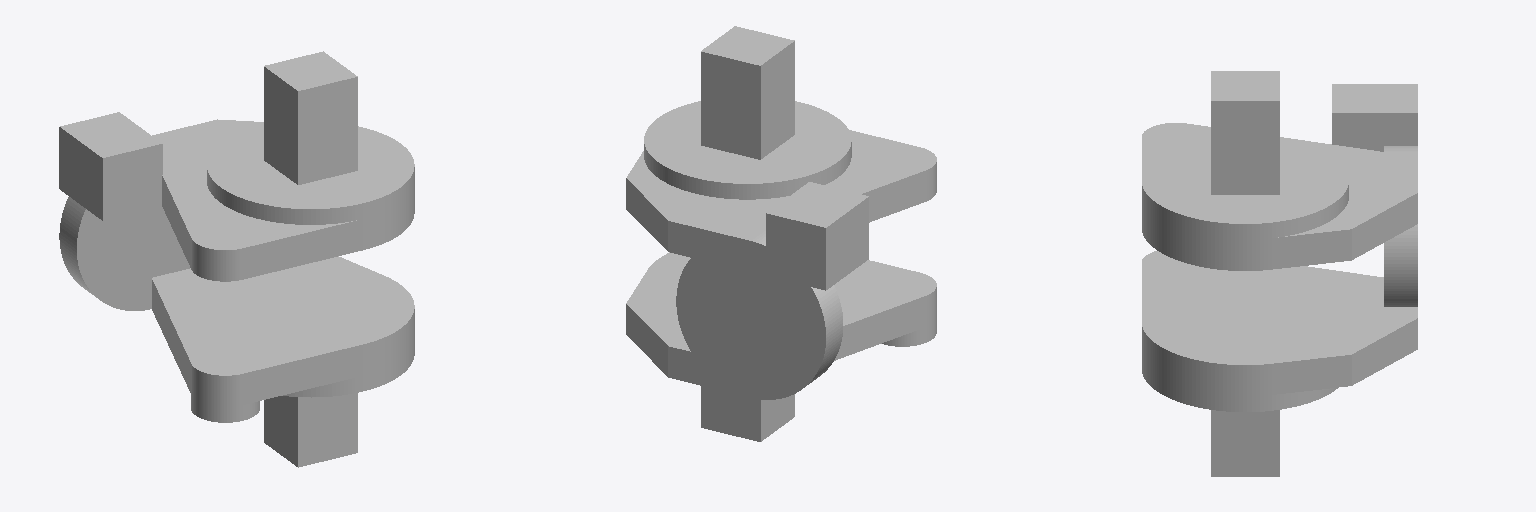
Rendered from Column.obj.
3 renders of one model, left to right at view 1: azimuth 30°, elevation 25°; view 2: azimuth 150°, elevation 25°; view 3: azimuth 270°, elevation 25°, orthographic.
Parts seen in each view (by area): view 1: Column; view 2: Column; view 3: Column.
Boxes of the visible parts, x1,y1,x2,y2 form: Column: [59, 51, 414, 467]; Column: [626, 26, 936, 441]; Column: [1142, 71, 1417, 476].
Size of the model in its own units: 0.8499 by 1.2 by 0.8.